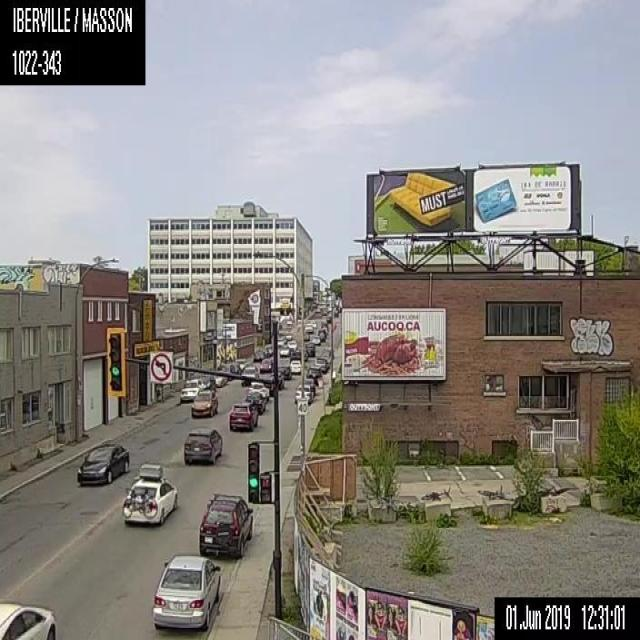vehicle: (151, 552, 221, 630), (198, 493, 253, 557), (121, 461, 177, 523), (76, 441, 130, 484), (0, 598, 58, 638), (181, 424, 222, 463), (227, 401, 259, 429), (190, 389, 217, 418), (244, 391, 265, 415), (179, 379, 202, 400), (293, 384, 313, 403), (241, 363, 256, 384), (246, 381, 268, 395), (210, 369, 228, 386), (276, 359, 290, 378), (304, 367, 321, 382), (258, 356, 272, 374), (301, 342, 316, 356), (289, 358, 301, 374), (314, 357, 327, 371), (286, 338, 297, 350), (264, 343, 273, 356), (278, 346, 289, 356), (303, 323, 313, 333), (317, 329, 325, 339), (320, 319, 327, 330), (312, 335, 320, 344)
